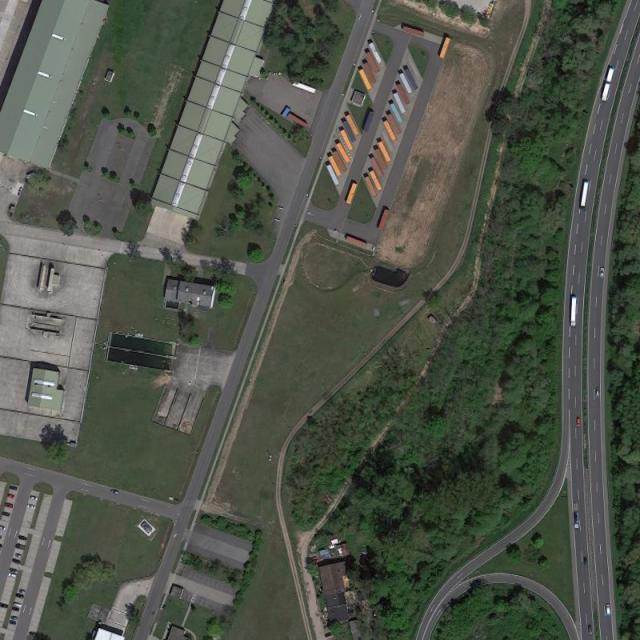vehicle: (601, 67, 615, 102), (581, 182, 590, 212), (570, 297, 578, 327), (15, 543, 27, 551), (574, 512, 579, 530), (26, 504, 37, 510), (9, 567, 18, 574), (15, 593, 25, 599), (8, 572, 18, 578), (18, 535, 28, 541), (600, 268, 606, 278), (14, 602, 22, 609), (8, 493, 16, 500), (2, 510, 10, 517), (606, 605, 611, 616), (12, 558, 21, 564), (588, 626, 593, 636), (30, 496, 38, 502), (6, 503, 14, 509), (110, 490, 119, 495), (1, 602, 8, 608), (9, 621, 17, 626), (10, 616, 18, 621), (12, 607, 20, 612), (18, 589, 26, 594), (577, 418, 581, 428), (10, 486, 18, 491), (584, 557, 588, 566), (596, 388, 600, 397), (15, 554, 22, 559), (1, 524, 6, 531)
